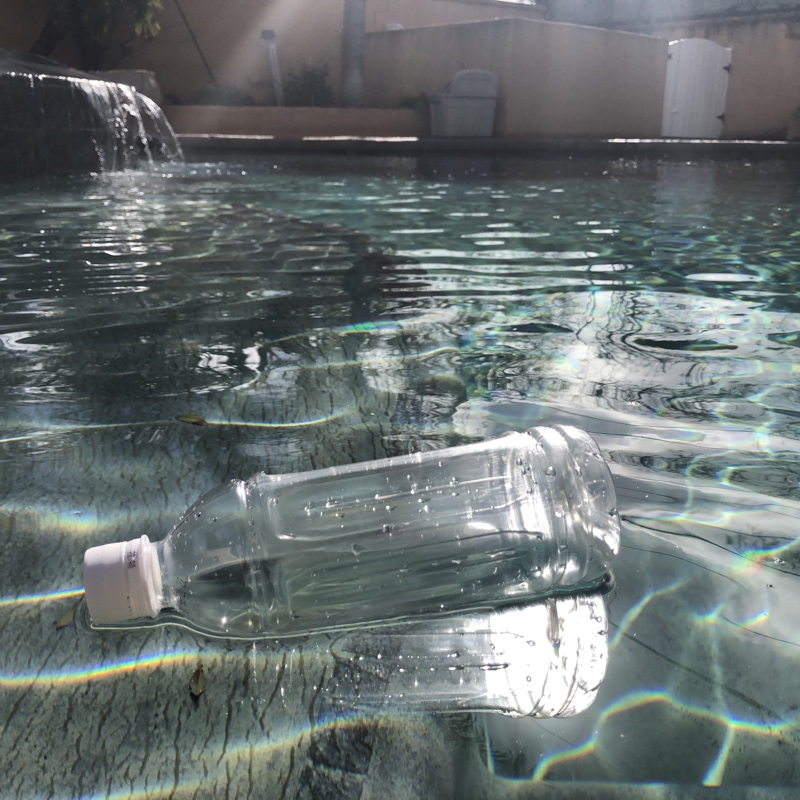Plastic Bottle: (77, 418, 622, 638)
